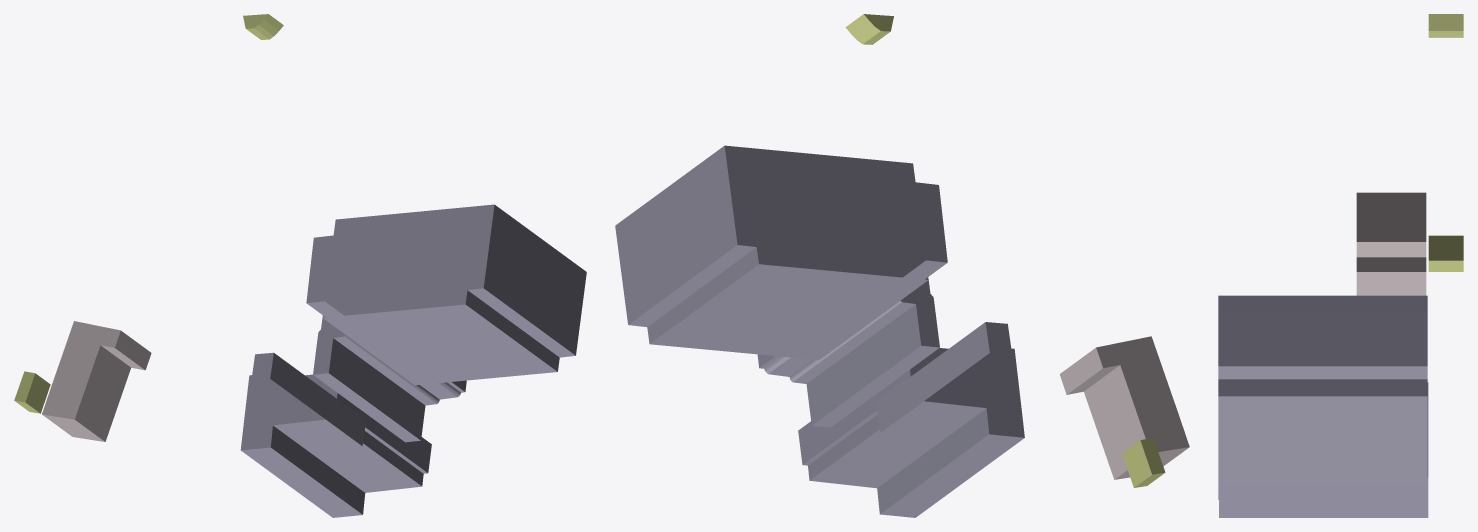
3 renders of one model, left to right at view 1: azimuth 30°, elevation 25°; view 2: azimuth 150°, elevation 25°; view 3: azimuth 270°, elevation 25°, orthographic. The views are drawn at different scales.
Visible parts, largest first — view 1: 0_0_1_2_3_0_3; view 2: 0_0_1_2_3_0_3; view 3: 0_0_1_2_3_0_3.
Part boxes in pixels (x1,y1,x2,y2): 0_0_1_2_3_0_3: (14, 14, 586, 517); 0_0_1_2_3_0_3: (615, 14, 1189, 517); 0_0_1_2_3_0_3: (1218, 14, 1463, 517).
Size of the model in its own units: 157 by 137 by 63.3.
